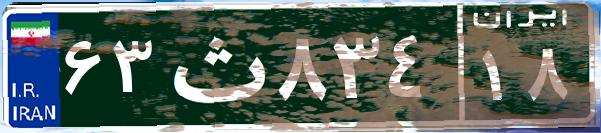1: (475, 38, 525, 113)
3: (330, 28, 385, 110), (110, 28, 158, 105)
4: (385, 28, 445, 110)
6: (57, 26, 110, 107)
8: (273, 28, 330, 110), (525, 38, 570, 115)
ث: (158, 15, 273, 115)
